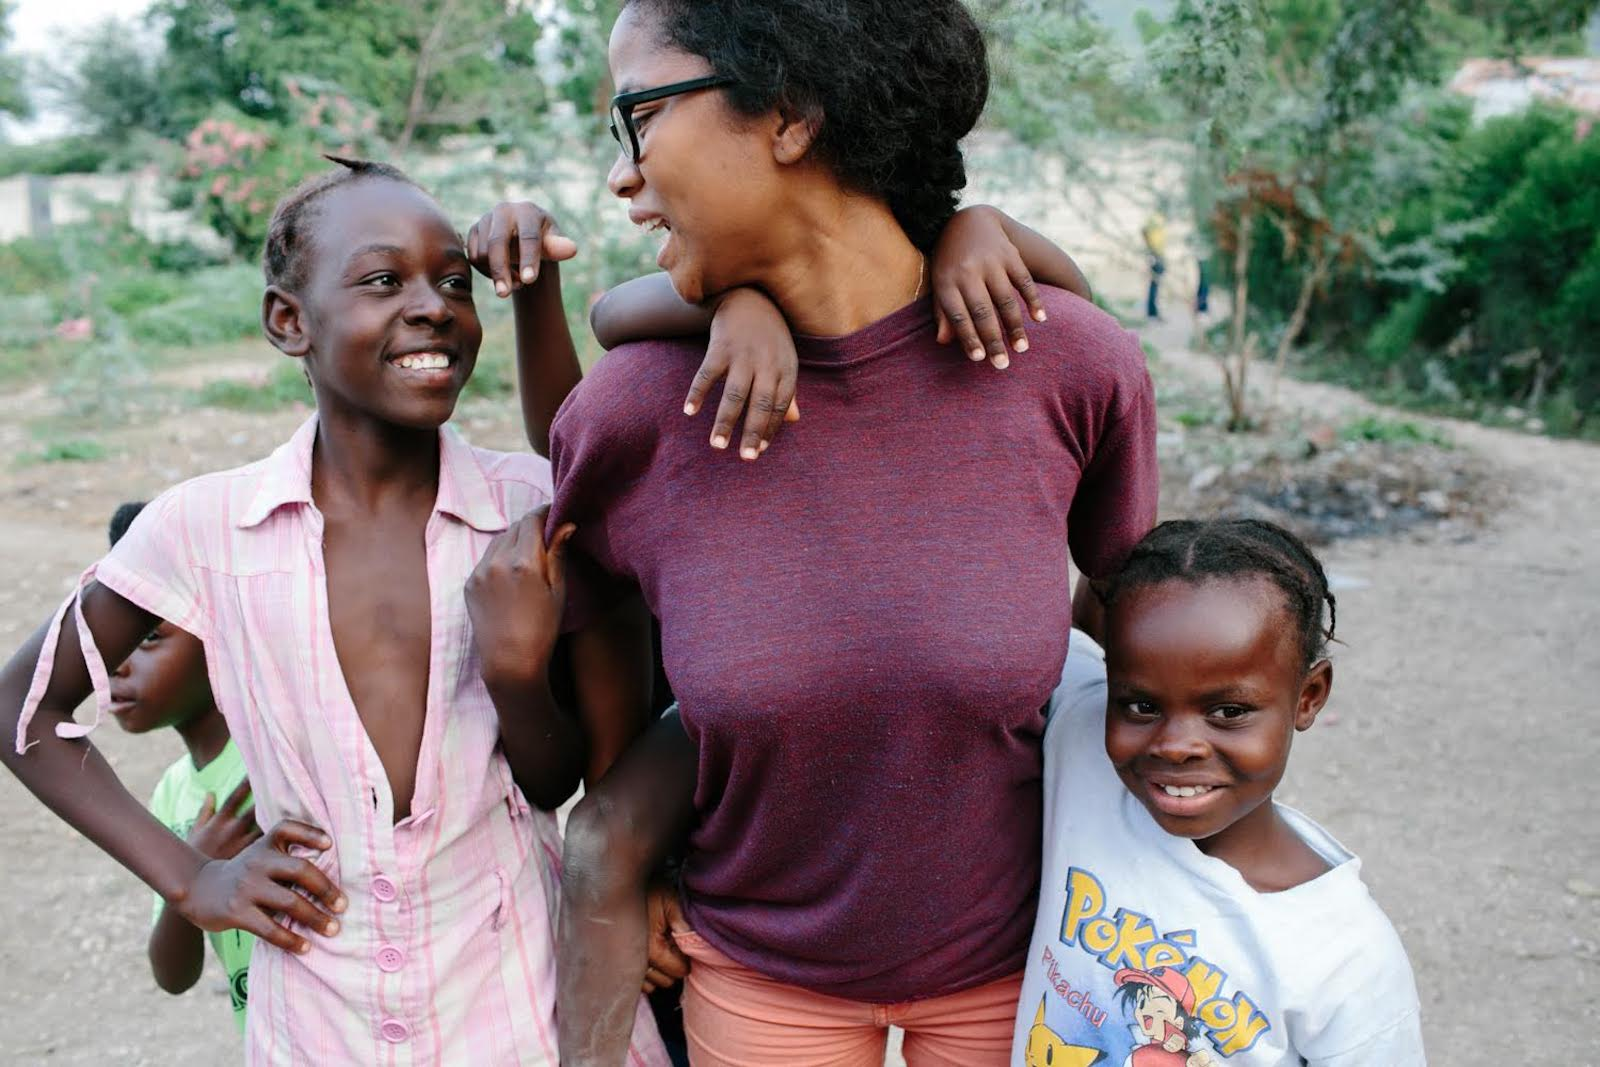Person: (478, 19, 1190, 1067), (24, 153, 581, 1059), (990, 508, 1435, 1067)
